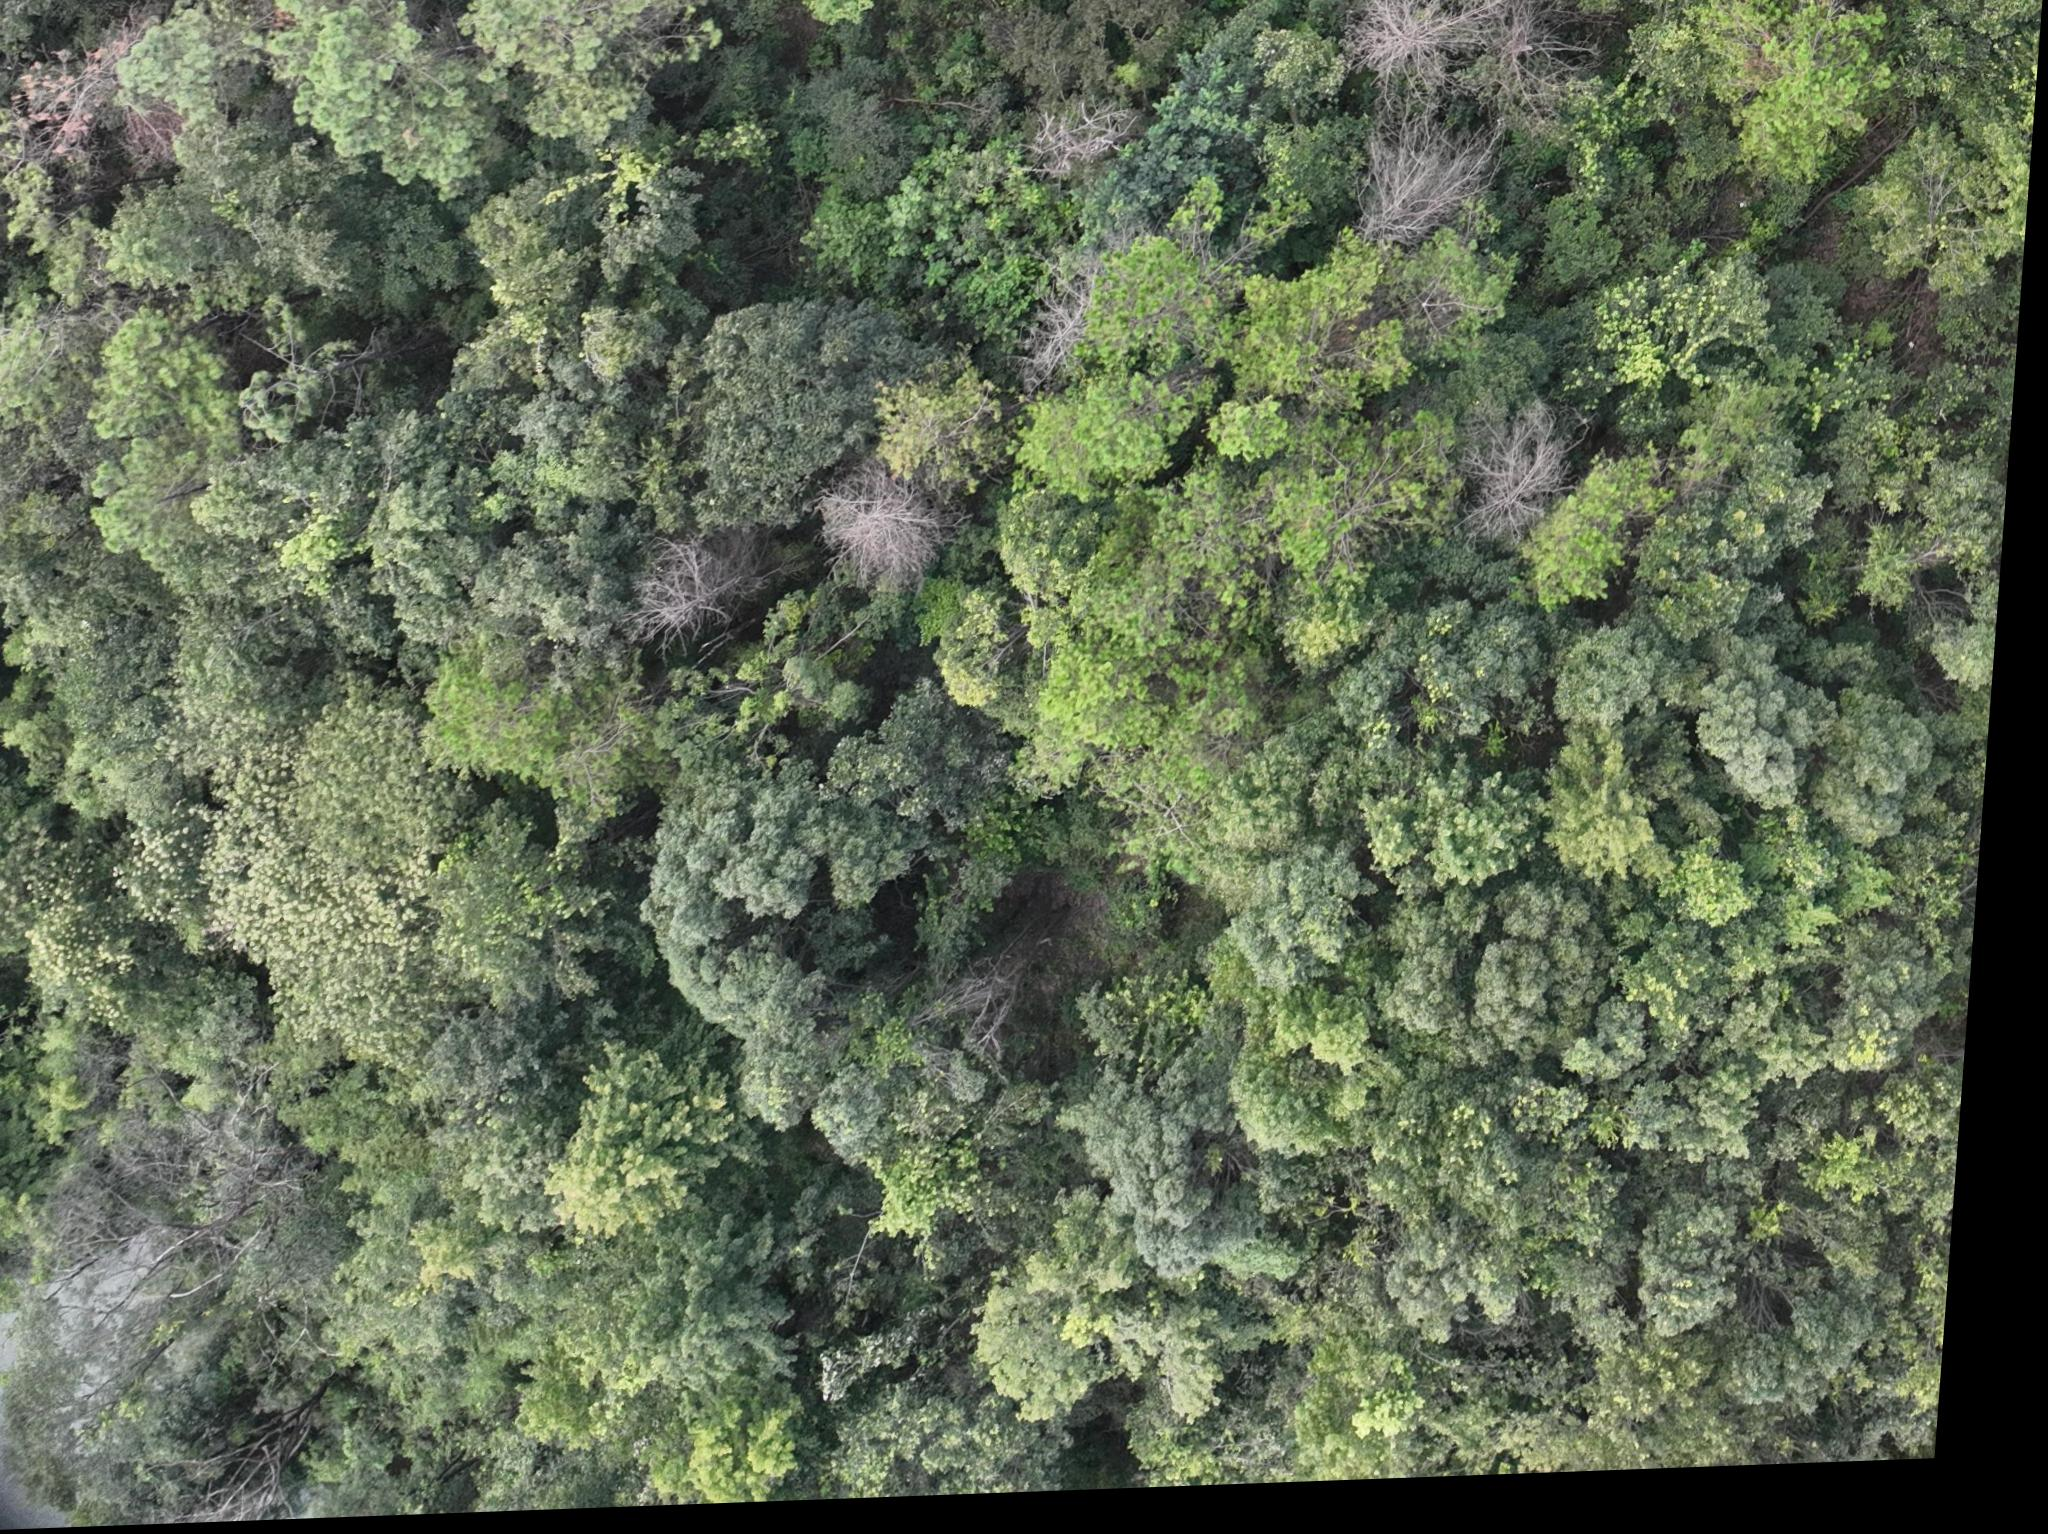dead: (1339, 0, 1581, 264), (827, 453, 967, 614), (635, 525, 775, 651), (1471, 430, 1589, 551), (1023, 102, 1134, 187)
heavy: (11, 42, 137, 169)
